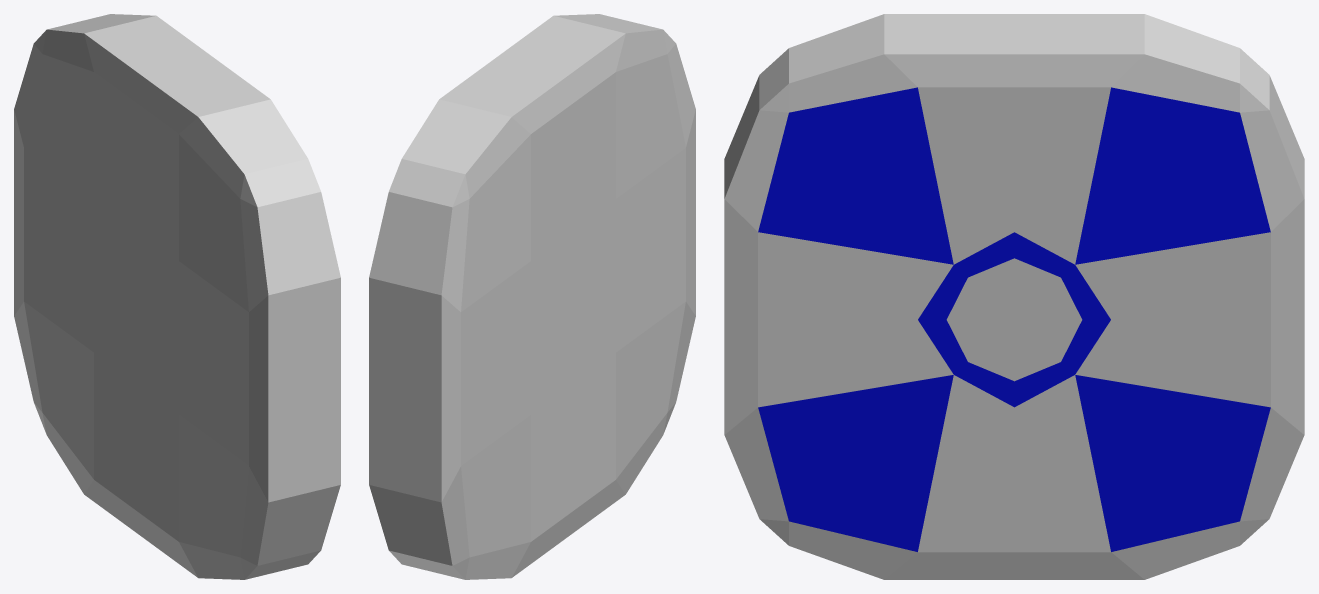
Rendered from target.fbx.
The picture shows the model from 3 angles, left to right: view 1: azimuth 30°, elevation 25°; view 2: azimuth 150°, elevation 25°; view 3: azimuth 270°, elevation 25°; orthographic projection. The views are drawn at different scales.
Visible parts, largest first — view 1: target; view 2: target; view 3: target.
Boxes of the visible parts, left/top/right/bottom form: target: left=14, top=14, right=340, bottom=579; target: left=369, top=14, right=695, bottom=579; target: left=724, top=14, right=1304, bottom=579.
Size of the model in its own units: 22.03 by 118 by 118.
